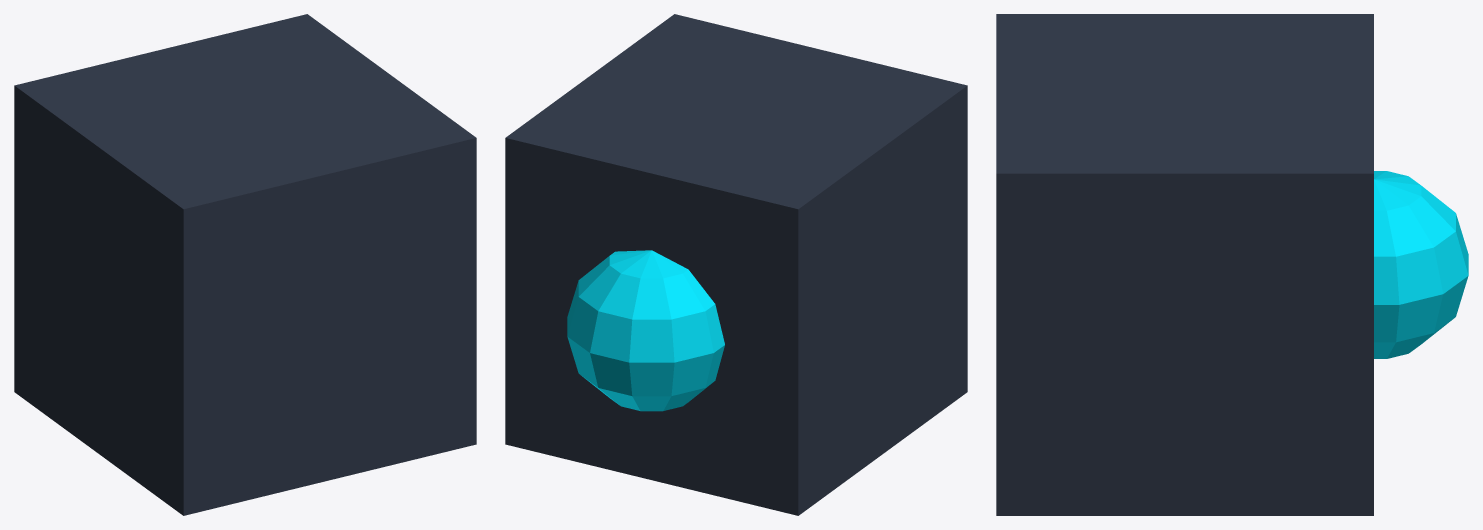
File: Genisis_ core.gltf
3 renders of one model, left to right at view 1: azimuth 30°, elevation 25°; view 2: azimuth 150°, elevation 25°; view 3: azimuth 270°, elevation 25°, orthographic. The views are drawn at different scales.
Visible parts, largest first — view 1: outer_housing; view 2: outer_housing, energy core; view 3: outer_housing, energy core.
Boxes of the visible parts, left/top/right/bottom form: outer_housing: left=14, top=14, right=476, bottom=515; outer_housing: left=505, top=14, right=967, bottom=515; energy core: left=567, top=250, right=724, bottom=411; outer_housing: left=996, top=14, right=1373, bottom=515; energy core: left=1374, top=171, right=1468, bottom=358.
Bounding box in the file's own units: 0.75 × 0.75 × 0.9375.
Materials: 2 (2 with a texture image).
